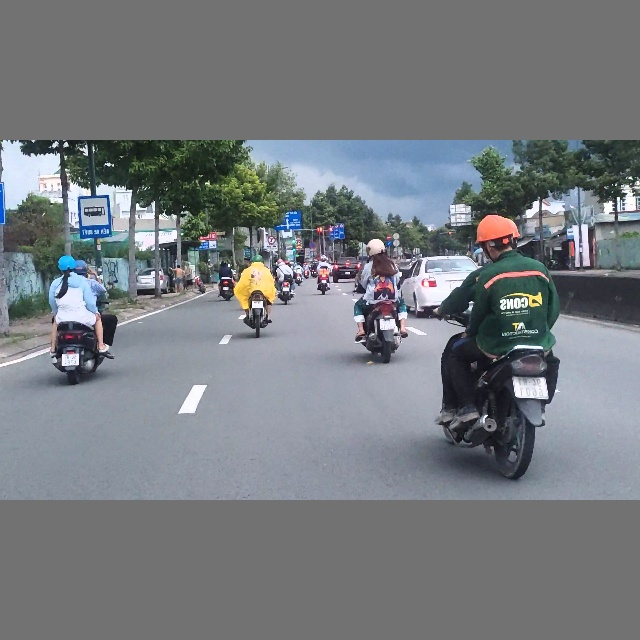I.434a: (80, 194, 110, 238)
P.102: (386, 235, 391, 240)
P.137: (267, 236, 275, 244)
R.302a: (387, 241, 392, 246)
R.415a: (330, 227, 345, 239)
